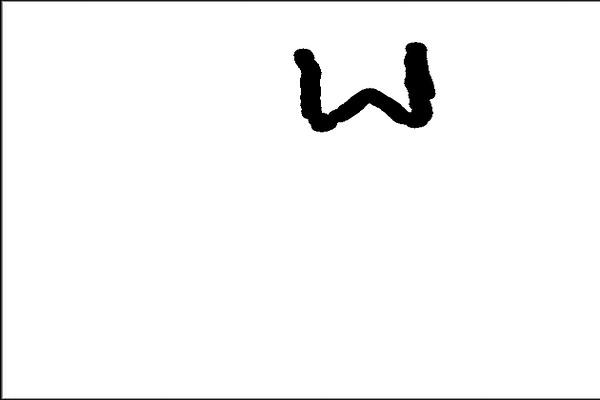w: (269, 26, 457, 150)
